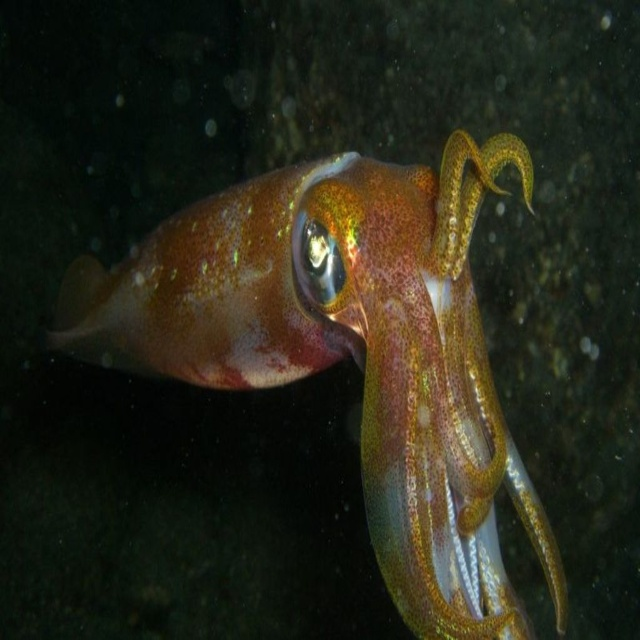Squid: (42, 129, 572, 640)
